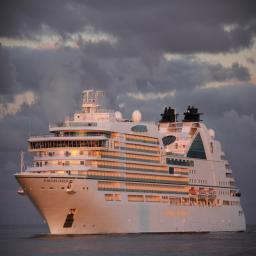cruises: (14, 87, 249, 240)
